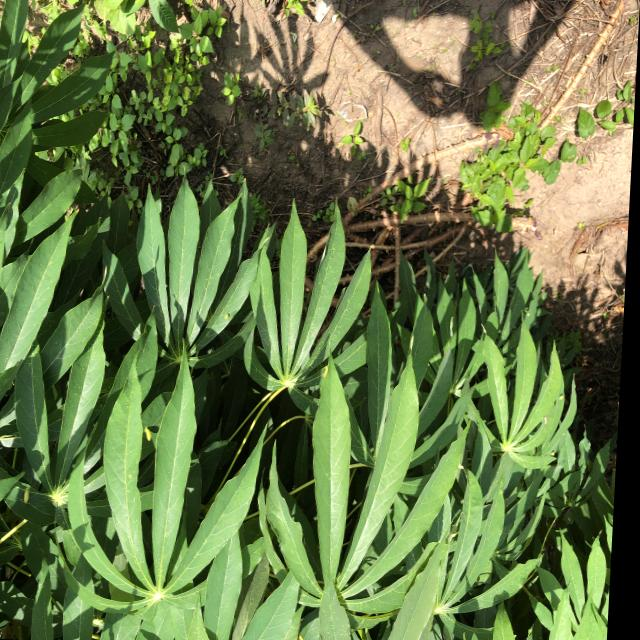Mosca: (138, 416, 160, 442), (220, 301, 238, 331), (537, 407, 551, 427), (557, 382, 570, 403)
